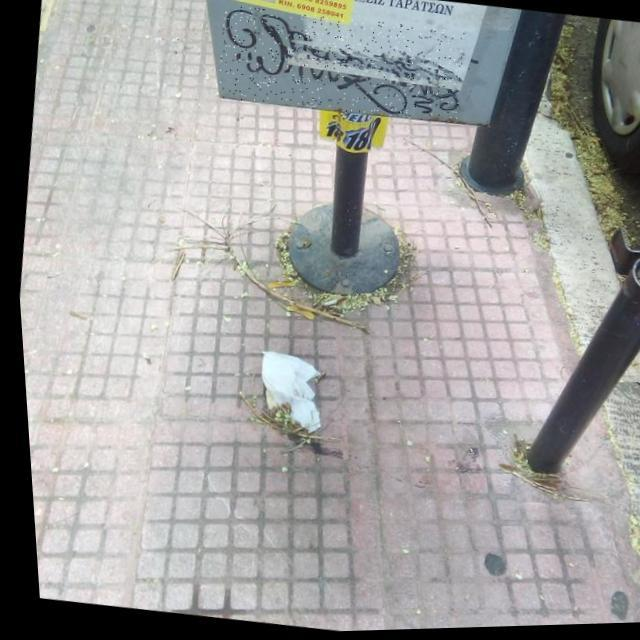-: (212, 1, 470, 132)
